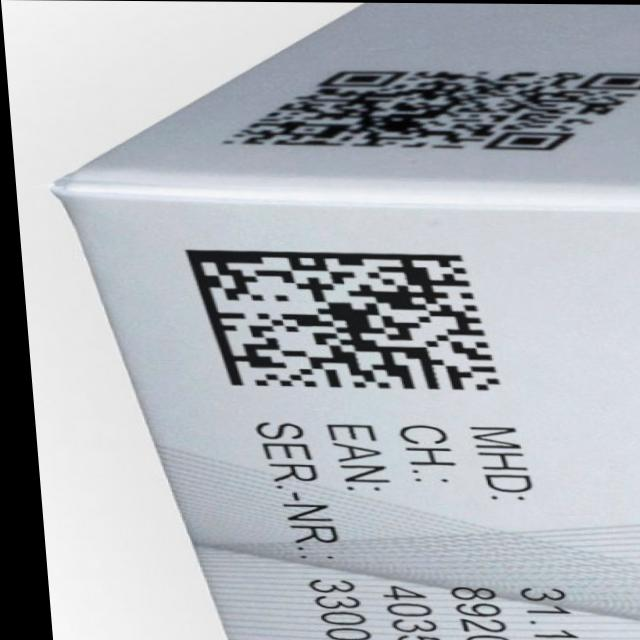datamatrix: (177, 249, 498, 392)
